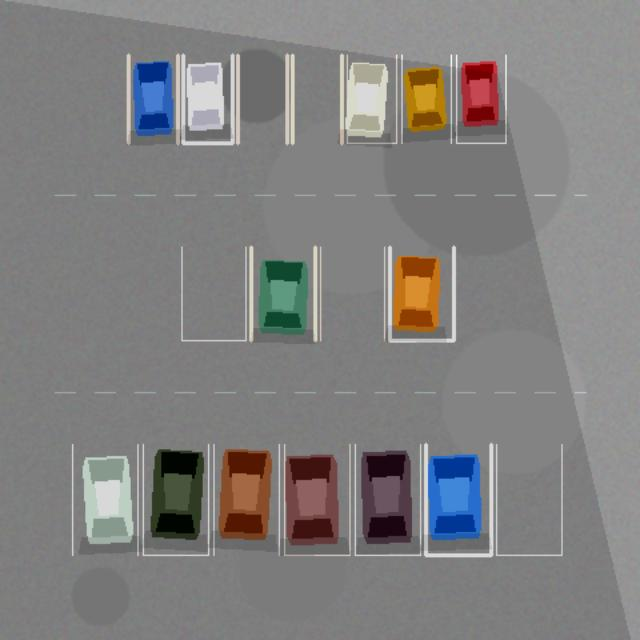space-empty: (496, 444, 561, 555), (181, 247, 245, 340), (320, 247, 384, 340), (237, 55, 287, 143), (292, 55, 341, 143)
space-occupied: (213, 444, 279, 555), (425, 444, 491, 555), (72, 444, 137, 555), (143, 444, 208, 555), (284, 444, 349, 555), (355, 444, 420, 555), (251, 247, 315, 340), (389, 247, 453, 340), (401, 55, 451, 143), (128, 55, 177, 143), (183, 55, 232, 143), (347, 55, 396, 143), (456, 55, 505, 143)
